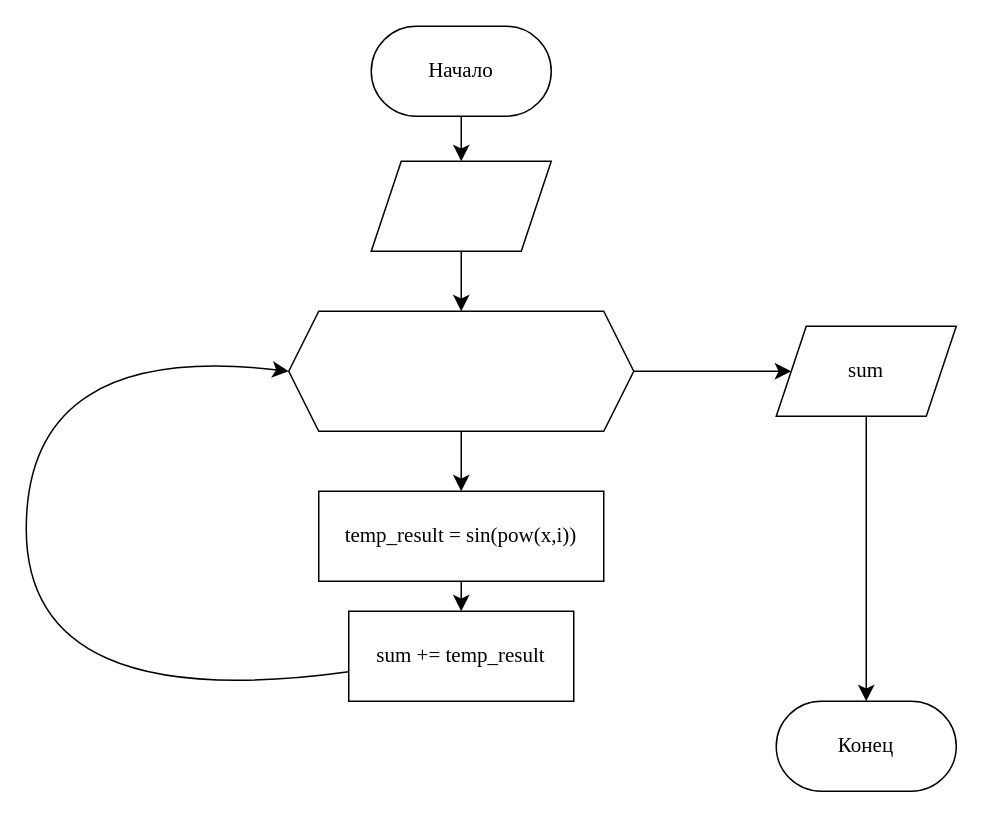
Image size: 983x818. Some labels were removed from this diagram. The box of each missing label's shape, as (x1, y1, x2, y2) in pixels:
i = 1; i <= n; 1: (287, 310, 634, 431)
n, x: (370, 160, 551, 251)
